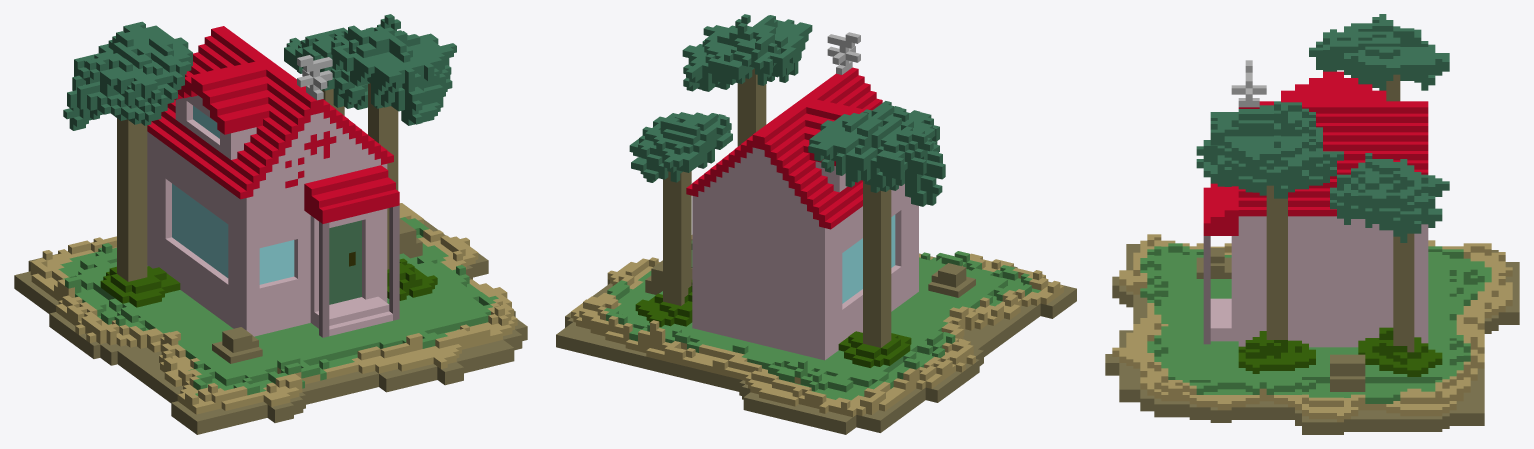
File: island_home.glb
3 views of the same model, side by side, from view 1: azimuth 30°, elevation 25°; view 2: azimuth 150°, elevation 25°; view 3: azimuth 270°, elevation 25° (orthographic). The views are drawn at different scales.
Parts seen in each view (by area): view 1: Object_2; view 2: Object_2; view 3: Object_2.
Boxes of the visible parts, box(x1,y1,x2,y2) form: Object_2: box(14, 14, 527, 434); Object_2: box(556, 14, 1076, 434); Object_2: box(1105, 14, 1519, 434).
Bounding box in the file's own units: 6 × 4.4 × 5.9.
Materials: 1 (1 with a texture image).
